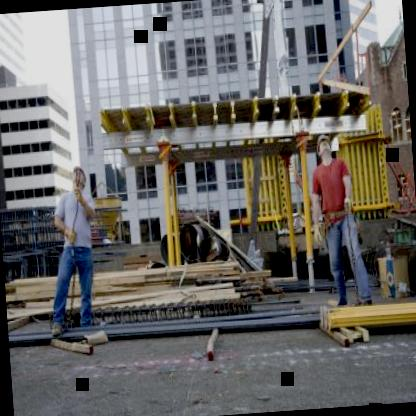helmet: (315, 130, 334, 160), (71, 162, 88, 192)
